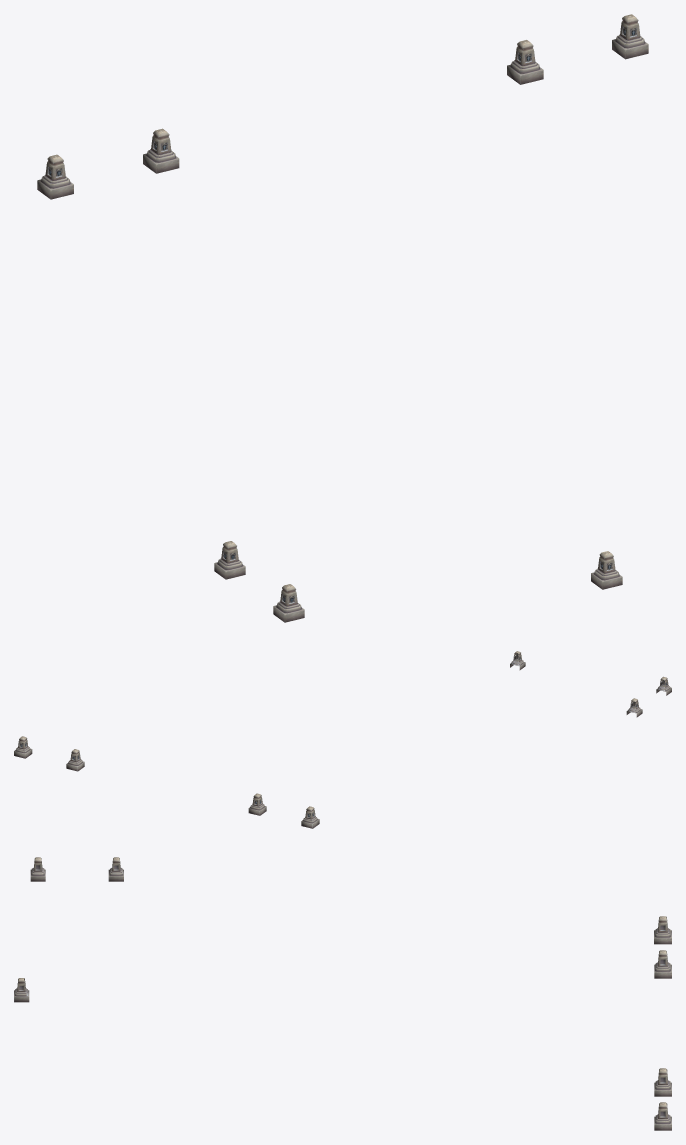
The model's file is S_Build_City080_A.FBX.
3 renders of one model, top to bottom at view 1: azimuth 30°, elevation 25°; view 2: azimuth 150°, elevation 25°; view 3: azimuth 270°, elevation 25°, orthographic. The views are drawn at different scales.
Visible parts, largest first — view 1: S_Build_City080_005, S_Build_City080_007, S_Build_City080_006, S_Build_City080_004; view 2: no part large enough to name; view 3: no part large enough to name.
Boxes of the visible parts, left/top/right/bottom form: S_Build_City080_005: left=507, top=40, right=543, bottom=84; S_Build_City080_007: left=37, top=154, right=73, bottom=199; S_Build_City080_006: left=143, top=128, right=179, bottom=173; S_Build_City080_004: left=612, top=14, right=648, bottom=59.
Size of the model in its own units: 9425 by 9704 by 968.
Materials: 1 (1 with a texture image).
